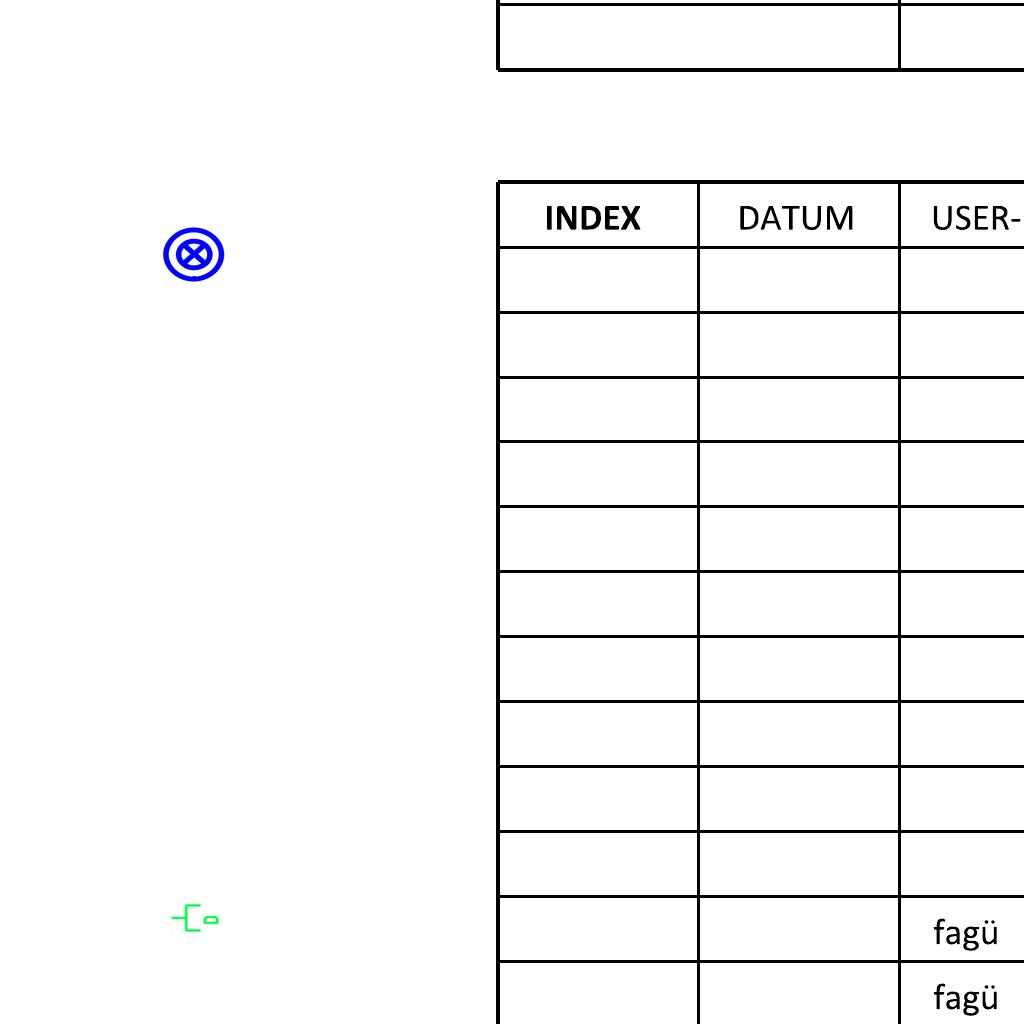Datenanschluss_einfach: (170, 900, 220, 934)
Taster_beleuchtet: (161, 221, 227, 287)
